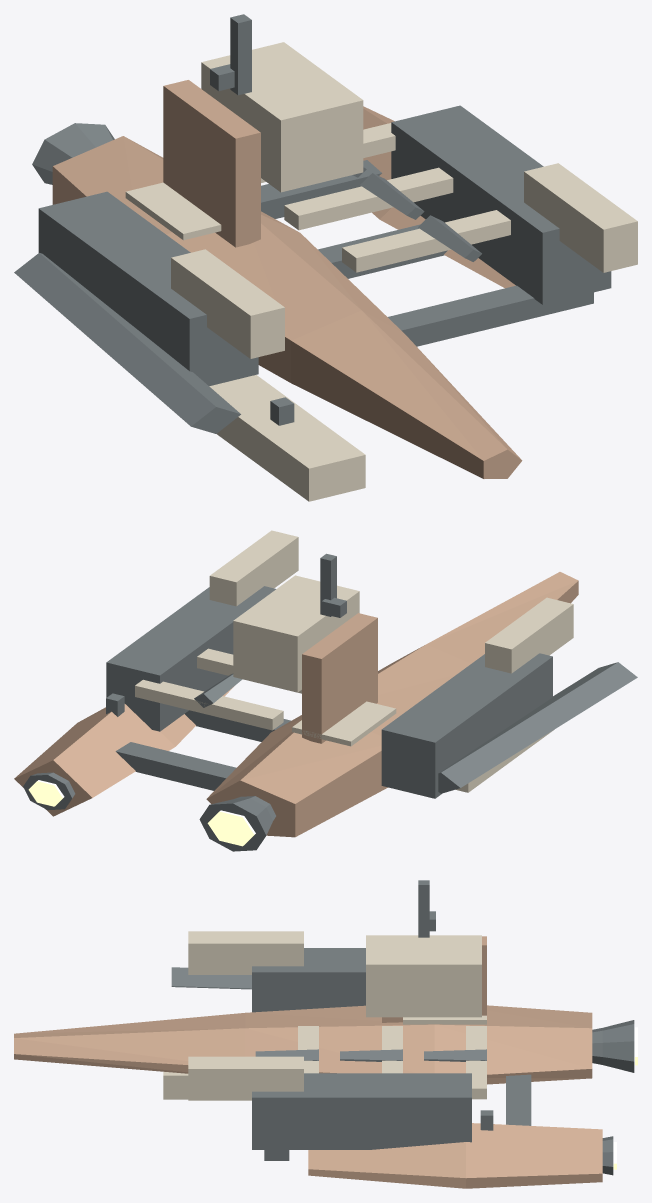
3 renders of one model, top to bottom at view 1: azimuth 30°, elevation 25°; view 2: azimuth 150°, elevation 25°; view 3: azimuth 270°, elevation 25°, orthographic. The views are drawn at different scales.
Size of the model in its own units: 15.01 by 9.01 by 21.56.
